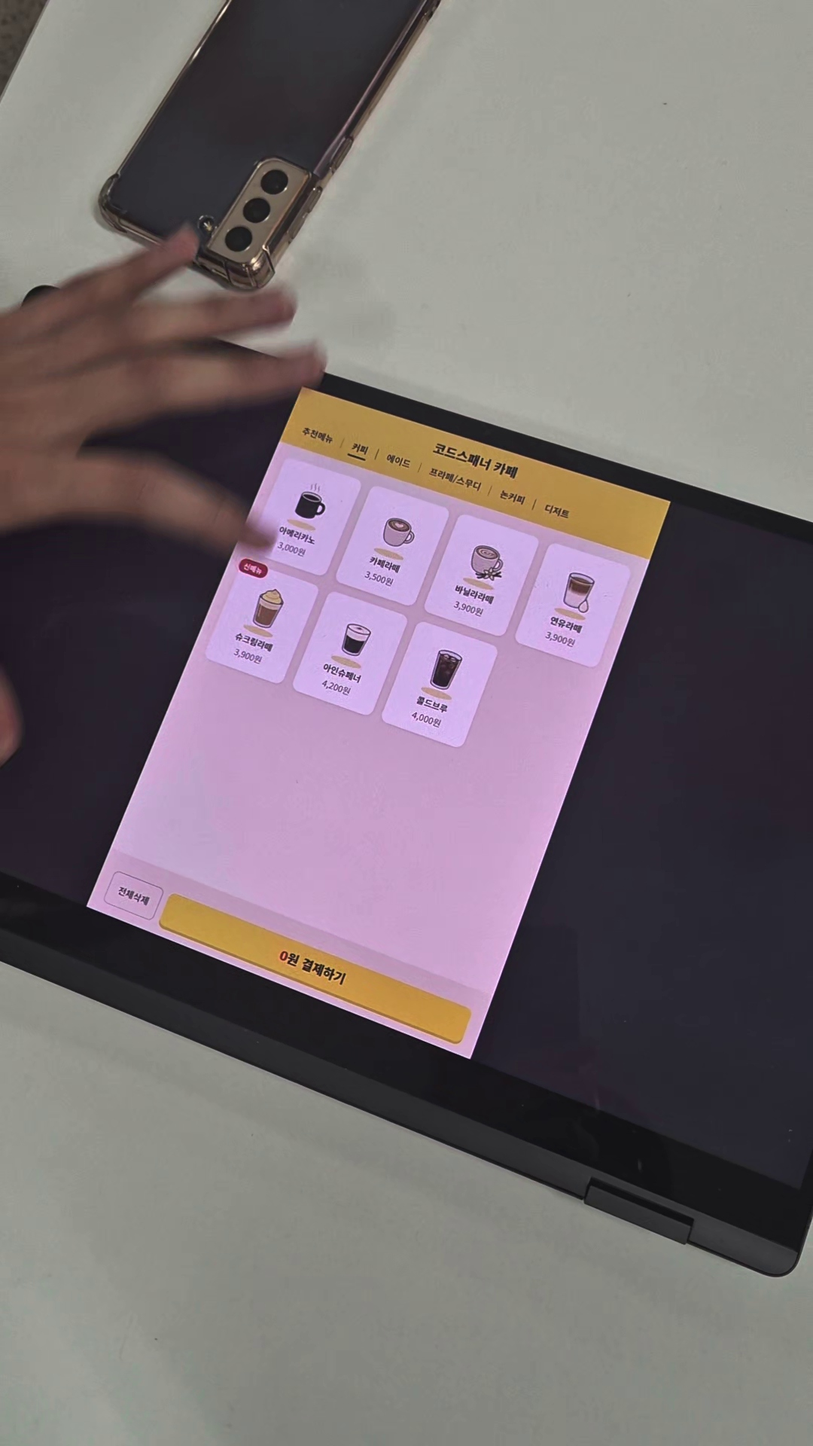action_button: (155, 890, 474, 1048), (98, 868, 165, 926)
category_tab: (424, 463, 486, 495), (292, 420, 340, 450), (379, 449, 418, 473), (495, 487, 531, 510), (540, 500, 575, 523), (346, 439, 375, 460)
menu_back: (281, 584, 414, 724), (194, 553, 324, 690), (376, 618, 504, 757), (509, 539, 638, 676), (417, 508, 543, 646), (329, 481, 452, 614), (242, 452, 364, 583)
menu_name: (448, 581, 500, 610), (275, 523, 319, 549), (546, 612, 587, 637), (365, 553, 402, 576), (414, 694, 452, 715)
menu_price: (450, 596, 489, 620), (361, 567, 399, 591), (408, 708, 445, 732), (316, 676, 354, 699), (231, 644, 267, 668), (275, 538, 310, 561), (542, 629, 579, 650)
